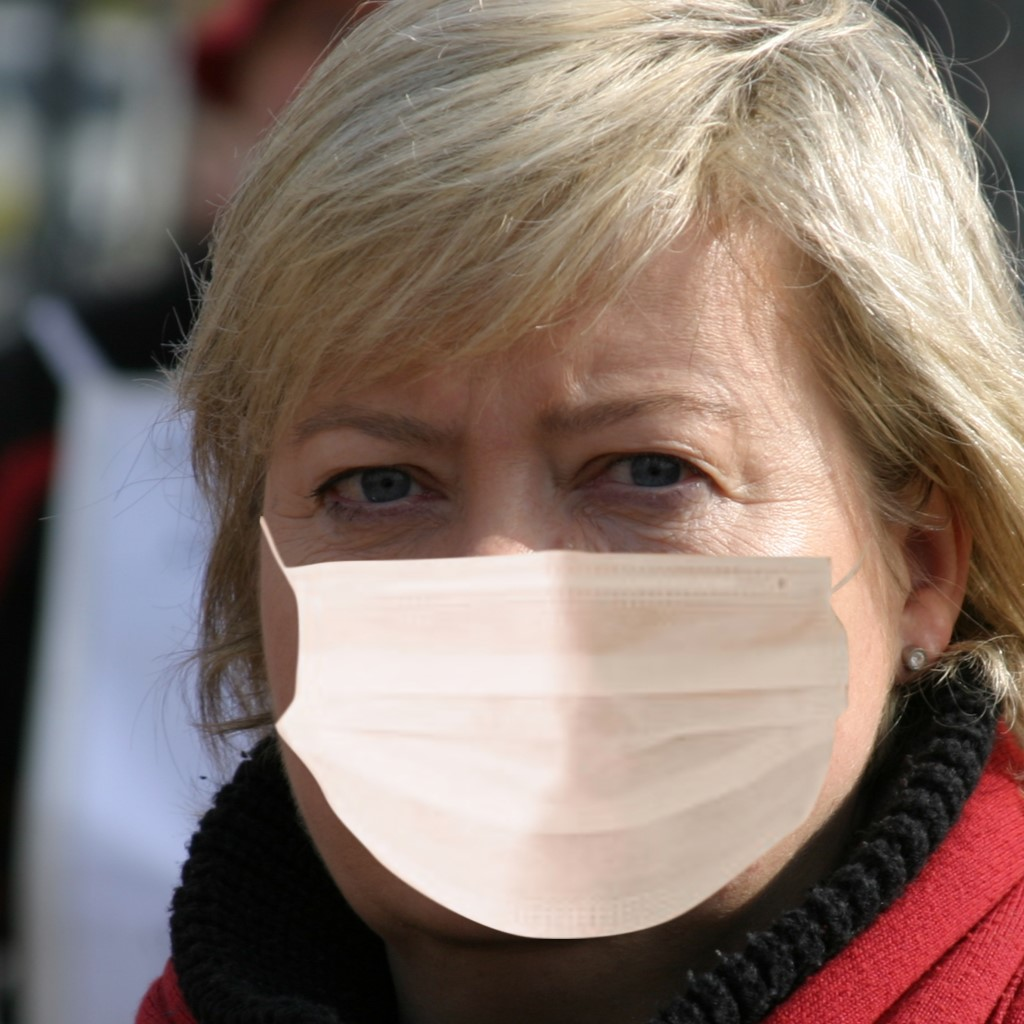con_mascara: (234, 180, 908, 959)
